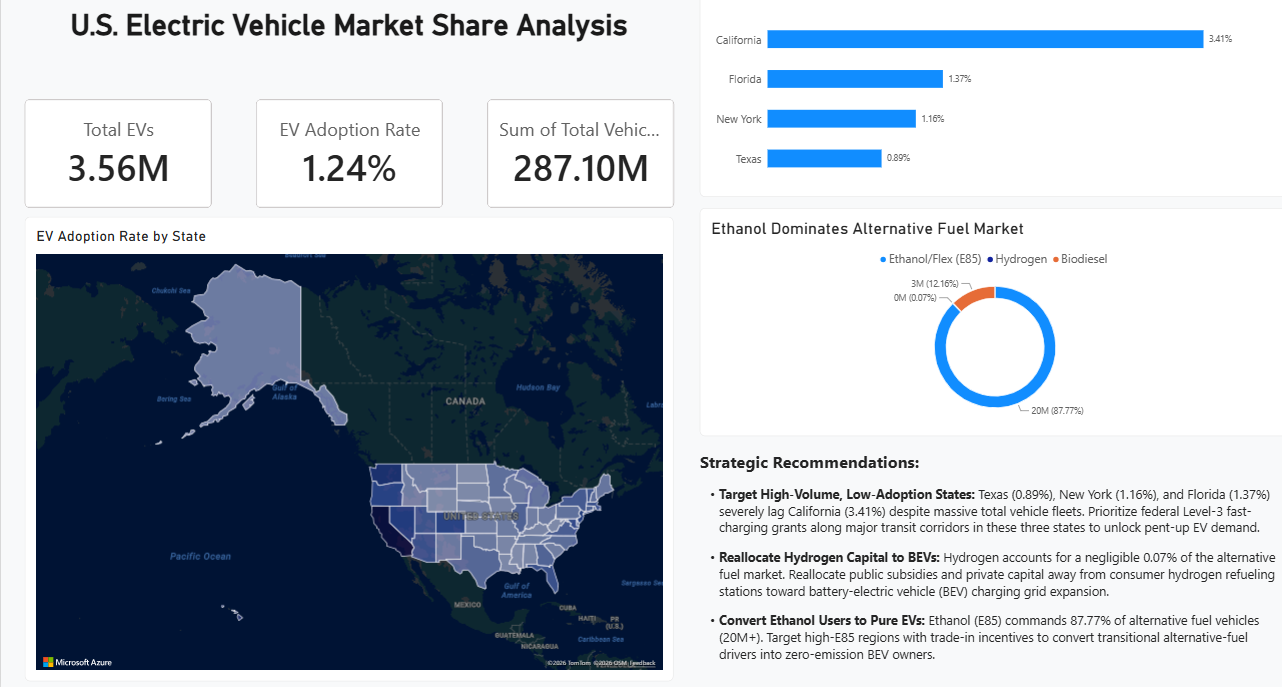

This screenshot's page, from the dashboard's own definition file:
{"tool":"powerbi","page":{"name":"Page 1","canvas":[1920,1080],"ordinal":0},"visuals":[{"type":"cardVisual","fields":{"Data":["VehicleData_Clean.Total EVs"]},"box":[35.1,208.5,275,160],"z":0},{"type":"cardVisual","fields":{"Data":["VehicleData_Clean.EV Adoption Rate"]},"box":[376.3,208.5,275,160],"z":1000},{"type":"azureMap","fields":{"Category":["VehicleData_Clean.State"]},"box":[35.1,381.9,955.6,684.4],"z":2000},{"type":"clusteredBarChart","title":"Mega-State Comparison","fields":{"Category":["VehicleData_Clean.State"],"Y":["VehicleData_Clean.EV Adoption Rate"]},"box":[1029.4,16.6,870,335],"z":3000},{"type":"donutChart","title":"Ethanol Dominates Alternative Fuel Market","fields":{"Y":["Sum(VehicleData_Clean.Ethanol/Flex (E85))","Sum(VehicleData_Clean.Hydrogen)","Sum(VehicleData_Clean.Biodiesel)"]},"box":[1029.4,368.9,870,335.7],"z":4000},{"type":"textbox","box":[35.1,0,955.6,167.9],"z":5000},{"type":"textbox","box":[1029.4,725,870.7,341.3],"z":6000},{"type":"cardVisual","fields":{"Data":["Sum(VehicleData_Clean.Total Vehicles)"]},"box":[715.8,208.5,275,160],"z":6001}]}

Visuals, with their boxes in screenshot pixels (x1, y1, x2, y2):
cardVisual - VehicleData_Clean.Total EVs: bbox=(32, 151, 205, 251)
cardVisual - VehicleData_Clean.EV Adoption Rate: bbox=(246, 151, 419, 251)
azureMap - VehicleData_Clean.State: bbox=(32, 260, 632, 686)
"Mega-State Comparison" clusteredBarChart: bbox=(656, 30, 1203, 241)
"Ethanol Dominates Alternative Fuel Market" donutChart: bbox=(656, 252, 1203, 463)
textbox: bbox=(32, 20, 632, 125)
textbox: bbox=(656, 475, 1203, 686)
cardVisual - Sum(VehicleData_Clean.Total Vehicles): bbox=(460, 151, 632, 251)
